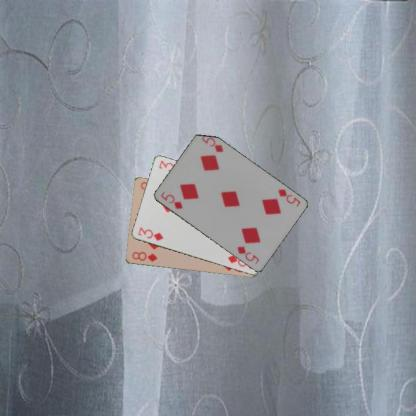3d: (135, 225, 164, 242)
5d: (275, 186, 302, 208), (158, 188, 184, 210)
8d: (130, 249, 158, 263)
